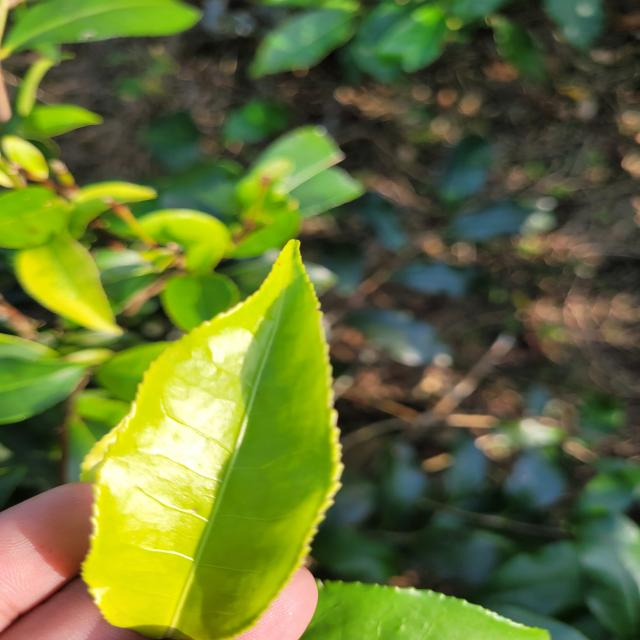Category B 2-4 days: (55, 221, 418, 640)
